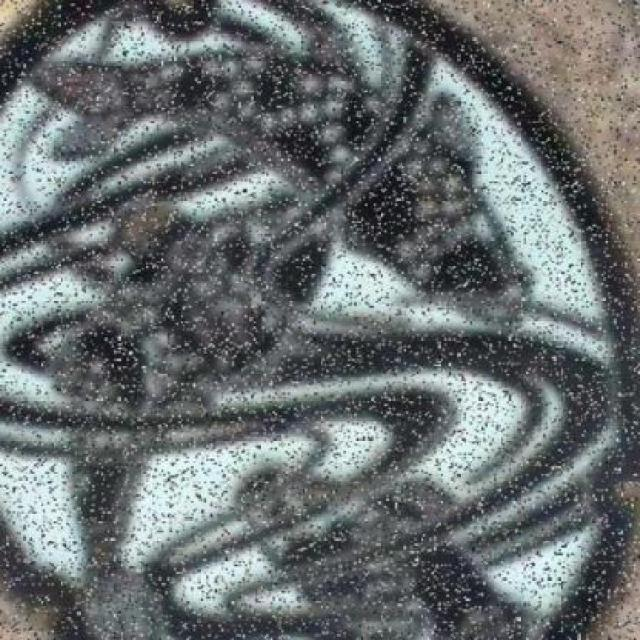Manhole: (6, 8, 625, 640)
